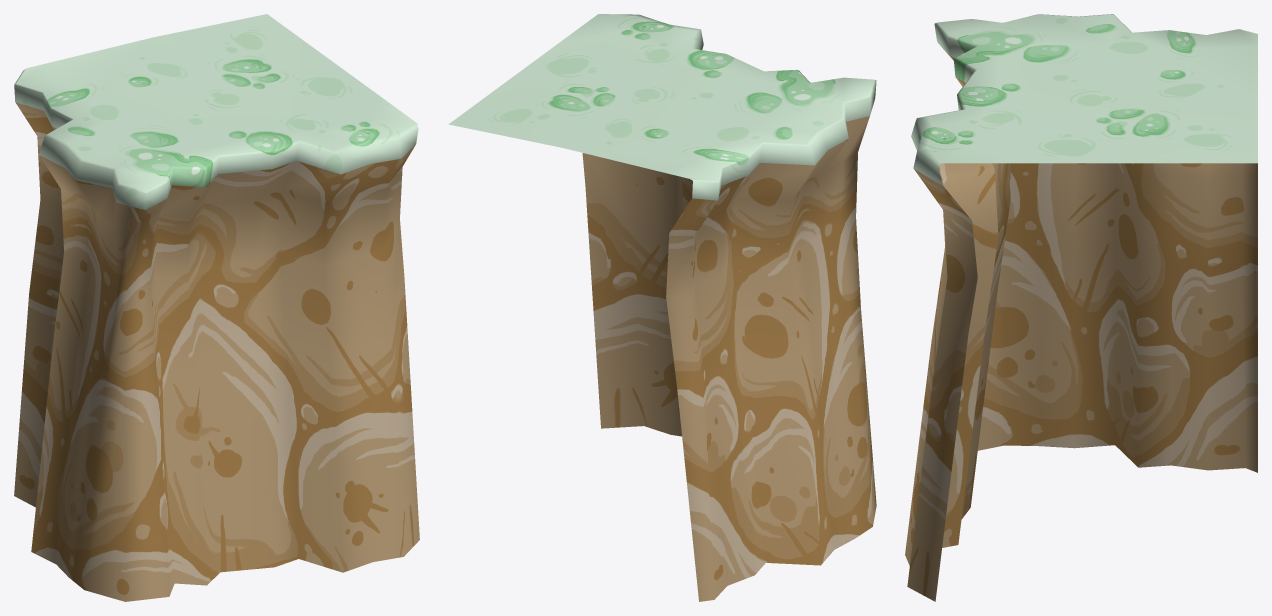
Rendered from SM_environment_corner_mar30.fbx.
3 renders of one model, left to right at view 1: azimuth 30°, elevation 25°; view 2: azimuth 150°, elevation 25°; view 3: azimuth 270°, elevation 25°, orthographic. The views are drawn at different scales.
Visible parts, largest first — view 1: SM_tile_corner_01; view 2: SM_tile_corner_01; view 3: SM_tile_corner_01.
Boxes of the visible parts, x1,y1,x2,y2 form: SM_tile_corner_01: [14, 14, 419, 601]; SM_tile_corner_01: [448, 14, 876, 601]; SM_tile_corner_01: [905, 14, 1257, 601].
Bounding box in the file's own units: 1351 × 1780 × 1285.
